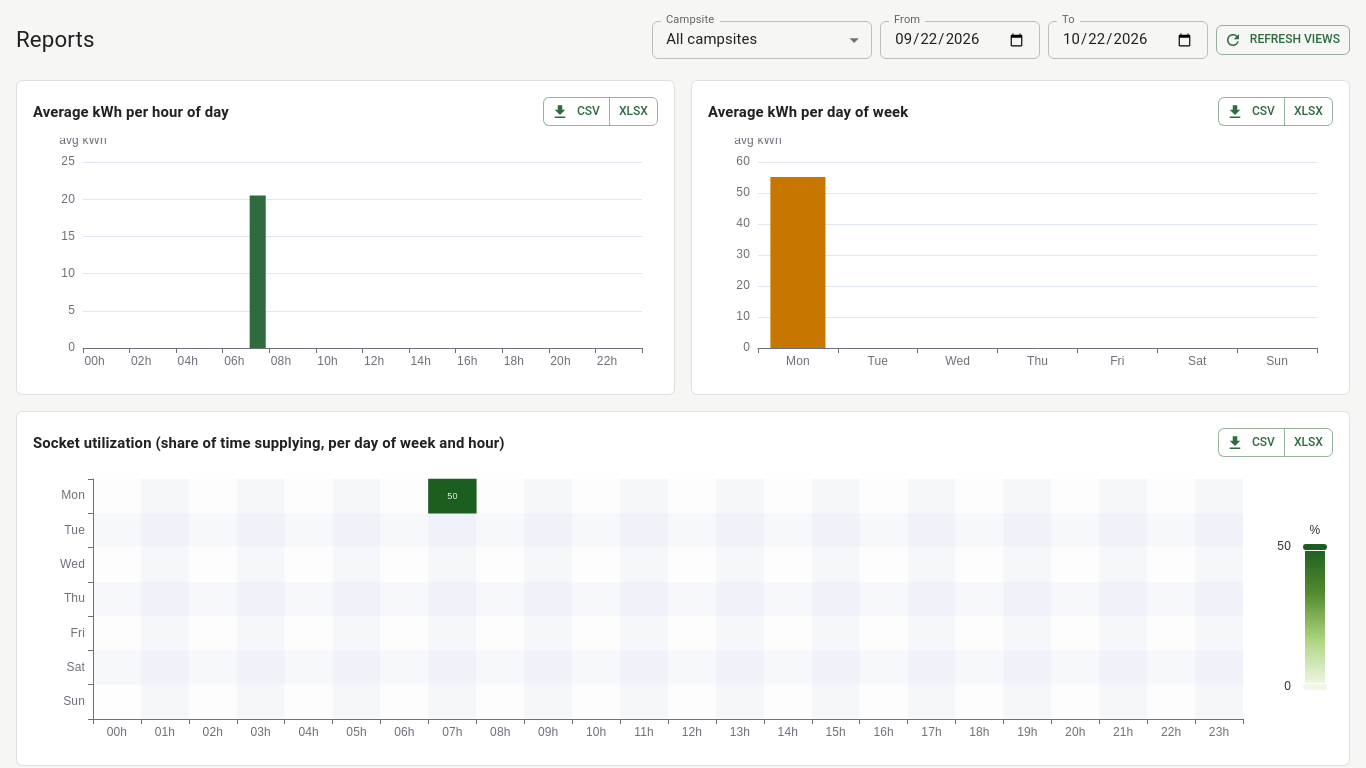
reports tab › refreshes the materialized utilization view
Click the button with test id "refresh-utilization".
click(1283, 40)  # box [1216, 25, 1350, 54]
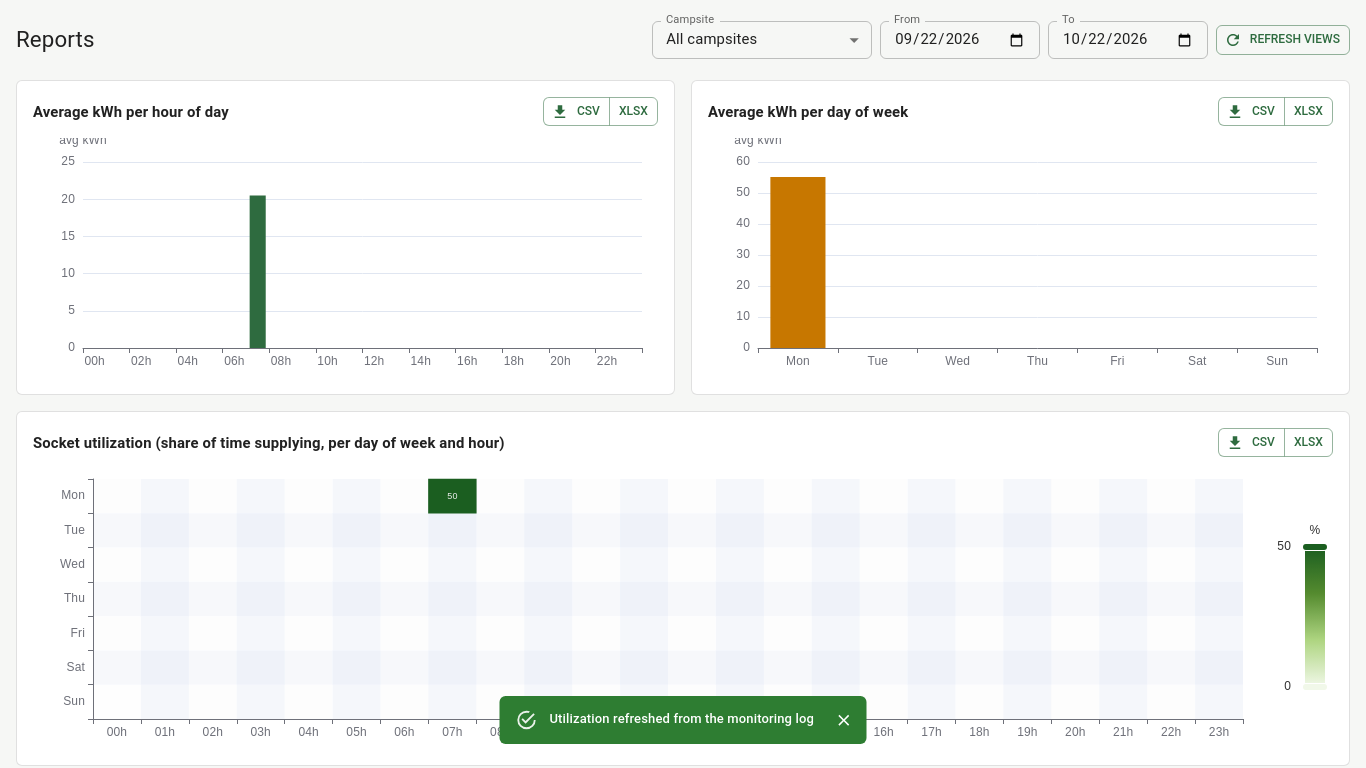
Now the message with test id "notification" shows "Utilization refreshed", box [550, 711, 814, 726]
